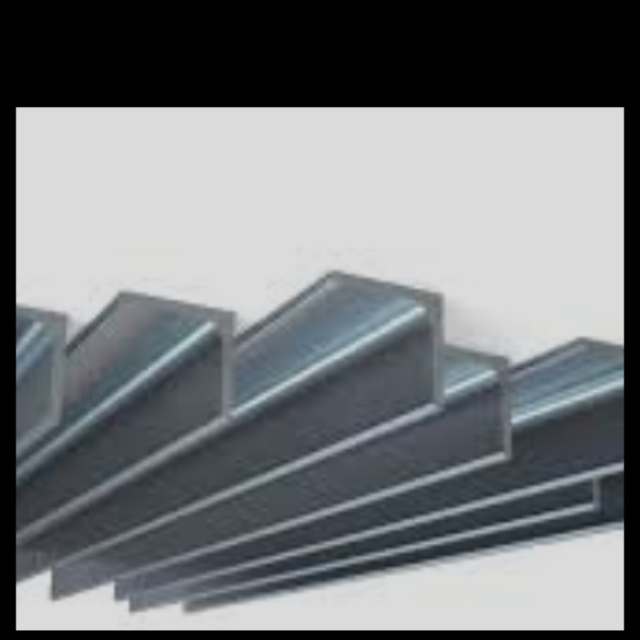Angle: (337, 274, 437, 396), (128, 294, 227, 409), (16, 298, 60, 416), (450, 352, 505, 442), (594, 344, 624, 449)
